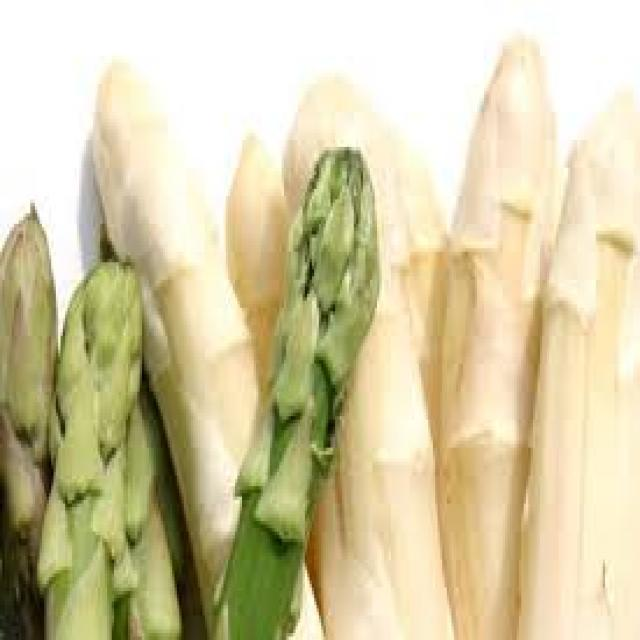organic waste: (91, 56, 321, 636), (277, 77, 456, 636), (207, 140, 377, 636), (435, 28, 554, 636), (512, 91, 638, 636), (35, 256, 147, 636), (226, 130, 305, 507), (0, 199, 56, 636), (119, 374, 193, 637), (394, 140, 444, 430)
